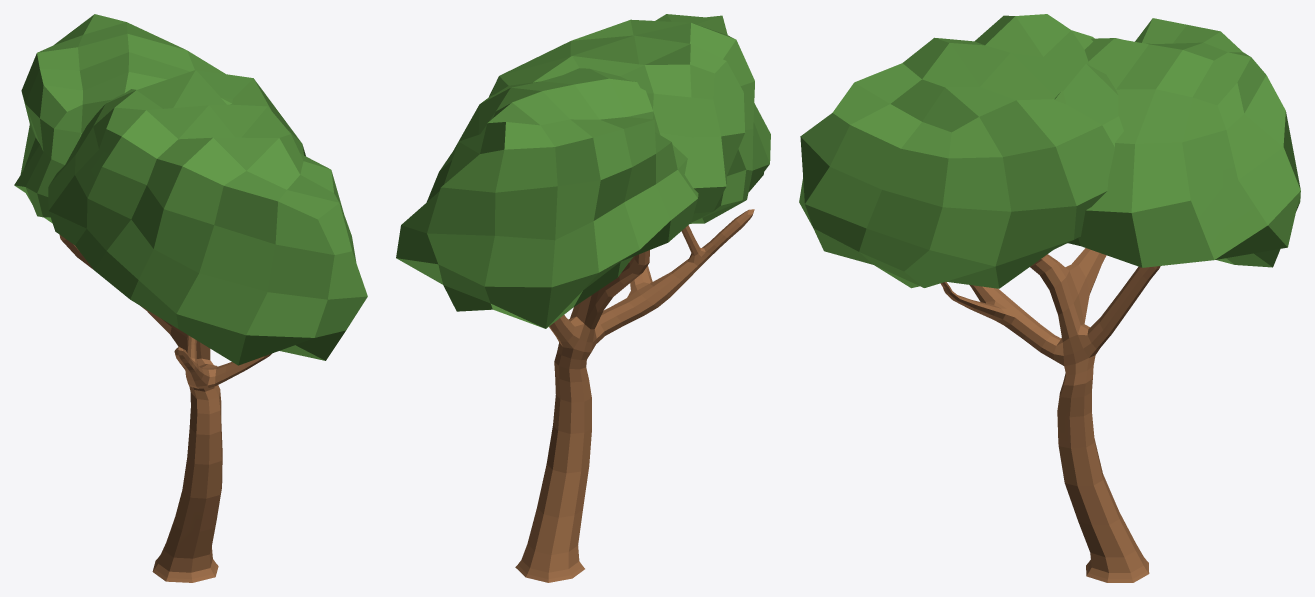
File: CommonTree_5.glb
3 renders of one model, left to right at view 1: azimuth 30°, elevation 25°; view 2: azimuth 150°, elevation 25°; view 3: azimuth 270°, elevation 25°, orthographic. The views are drawn at different scales.
Visible parts, largest first — view 1: CommonTree_5_Cube.014; view 2: CommonTree_5_Cube.014; view 3: CommonTree_5_Cube.014.
Boxes of the visible parts, left/top/right/bottom form: CommonTree_5_Cube.014: left=14, top=14, right=367, bottom=582; CommonTree_5_Cube.014: left=396, top=14, right=770, bottom=582; CommonTree_5_Cube.014: left=799, top=14, right=1300, bottom=582.
Bounding box in the file's own units: 1.29 × 2.53 × 2.25.
